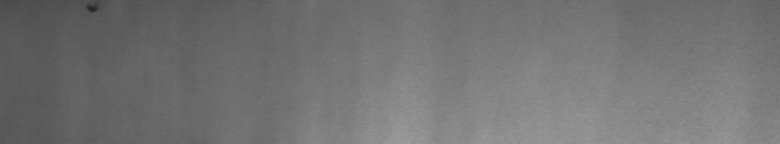fi: (84, 4, 100, 20)
